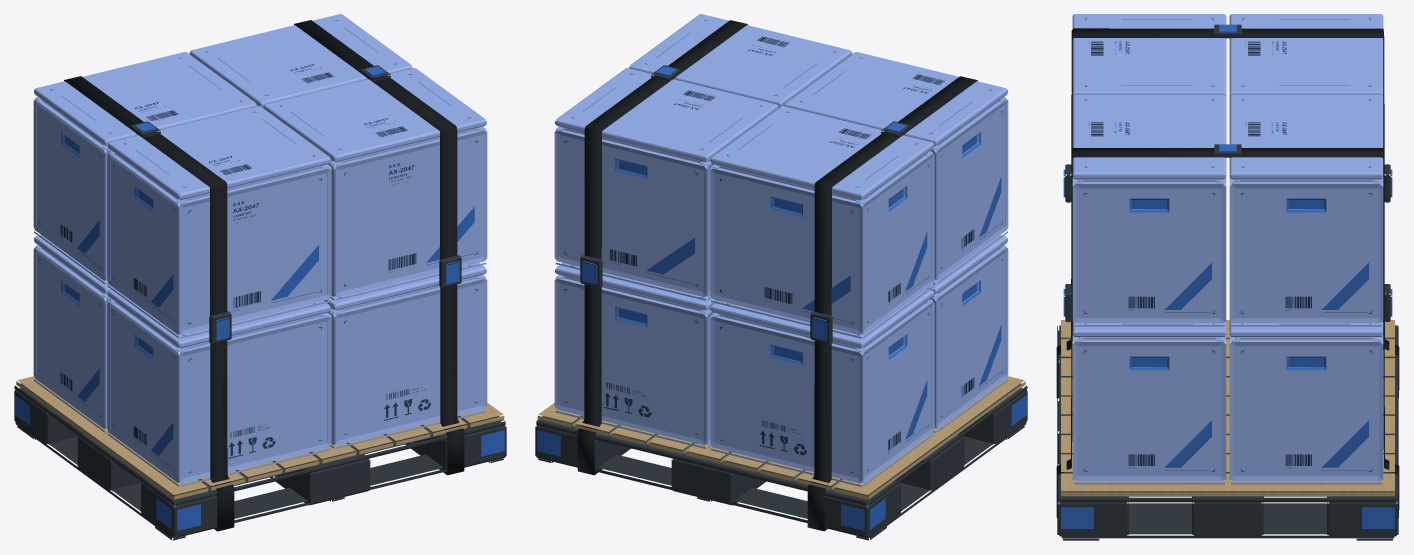
The model's file is shelf_loaded_LOD1.glb.
3 renders of one model, left to right at view 1: azimuth 30°, elevation 25°; view 2: azimuth 150°, elevation 25°; view 3: azimuth 270°, elevation 25°, orthographic. The views are drawn at different scales.
Visible parts, largest first — view 1: Export_Box_05, Export_Box_01, Export_Box_06, Export_Pallet, Export_Box_02, Export_Box_07, Export_Box_03, Export_Box_08, Export_Strap_2_Continuous, Export_Strap_1_Continuous, Export_Buckles; view 2: Export_Box_07, Export_Box_03, Export_Box_08, Export_Pallet, Export_Box_04, Export_Box_05, Export_Box_01, Export_Box_06, Export_Strap_2_Continuous, Export_Strap_1_Continuous, Export_Buckles; view 3: Export_Box_06, Export_Box_08, Export_Pallet, Export_Box_02, Export_Box_04, Export_Box_05, Export_Box_07, Export_Strap_2_Continuous, Export_Strap_1_Continuous, Export_Buckles.
Part boxes in pixels (left/top/right/bottom): Export_Box_05: left=107, top=106, right=331, bottom=338; Export_Box_01: left=107, top=289, right=331, bottom=486; Export_Box_06: left=263, top=68, right=487, bottom=300; Export_Pallet: left=14, top=376, right=506, bottom=540; Export_Box_02: left=324, top=263, right=487, bottom=448; Export_Box_07: left=33, top=52, right=257, bottom=284; Export_Box_03: left=33, top=235, right=114, bottom=432; Export_Box_08: left=189, top=14, right=412, bottom=107; Export_Strap_2_Continuous: left=294, top=20, right=464, bottom=475; Export_Strap_1_Continuous: left=64, top=76, right=234, bottom=531; Export_Buckles: left=129, top=65, right=461, bottom=343; Export_Box_07: left=710, top=106, right=934, bottom=338; Export_Box_03: left=710, top=289, right=934, bottom=486; Export_Box_08: left=554, top=68, right=778, bottom=300; Export_Pallet: left=535, top=376, right=1027, bottom=540; Export_Box_04: left=554, top=263, right=717, bottom=448; Export_Box_05: left=784, top=52, right=1008, bottom=284; Export_Box_01: left=927, top=235, right=1008, bottom=432; Export_Box_06: left=629, top=14, right=852, bottom=107; Export_Strap_2_Continuous: left=577, top=20, right=747, bottom=475; Export_Strap_1_Continuous: left=807, top=76, right=977, bottom=531; Export_Buckles: left=580, top=65, right=912, bottom=343; Export_Box_06: left=1072, top=94, right=1226, bottom=326; Export_Box_08: left=1229, top=94, right=1383, bottom=326; Export_Pallet: left=1057, top=320, right=1398, bottom=540; Export_Box_02: left=1072, top=322, right=1226, bottom=484; Export_Box_04: left=1229, top=322, right=1383, bottom=484; Export_Box_05: left=1072, top=14, right=1226, bottom=95; Export_Box_07: left=1229, top=14, right=1383, bottom=95; Export_Strap_2_Continuous: left=1056, top=148, right=1399, bottom=517; Export_Strap_1_Continuous: left=1056, top=28, right=1399, bottom=398; Export_Buckles: left=1063, top=24, right=1392, bottom=321.
Size of the model in its own units: 1.2 by 1.19 by 1.
6 materials, 2 textured.
